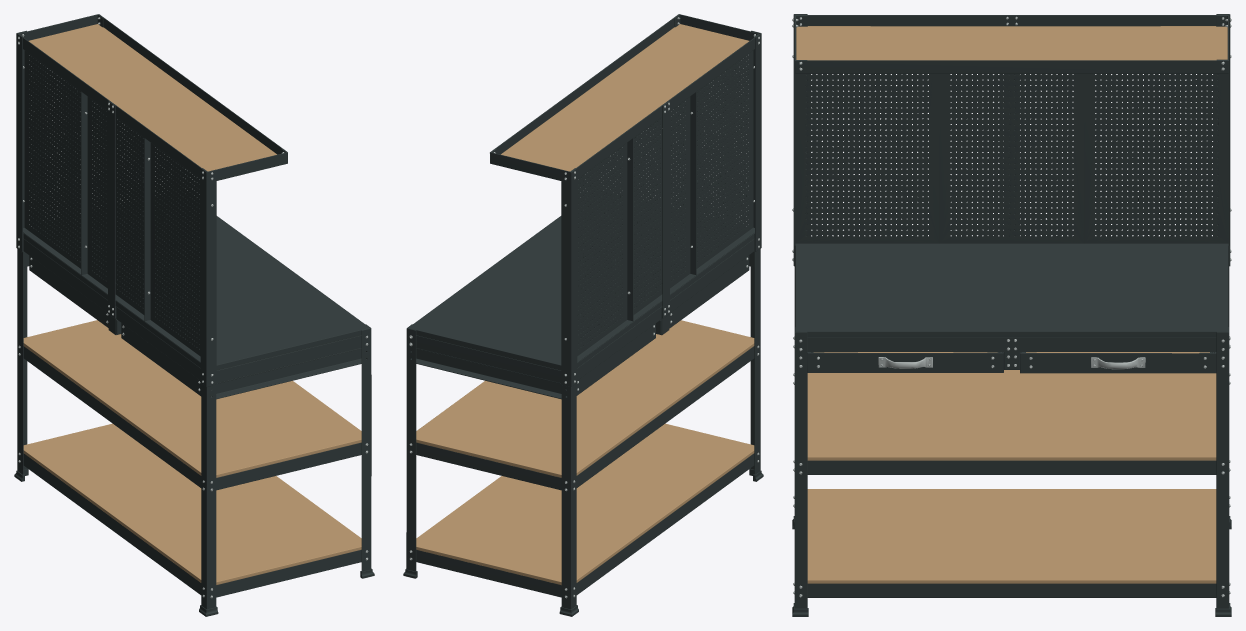
The model's file is furniture_workbench_standard_d01.glb.
3 renders of one model, left to right at view 1: azimuth 30°, elevation 25°; view 2: azimuth 150°, elevation 25°; view 3: azimuth 270°, elevation 25°, orthographic. The views are drawn at different scales.
Size of the model in its own units: 0.6433 by 1.56 by 1.22.
